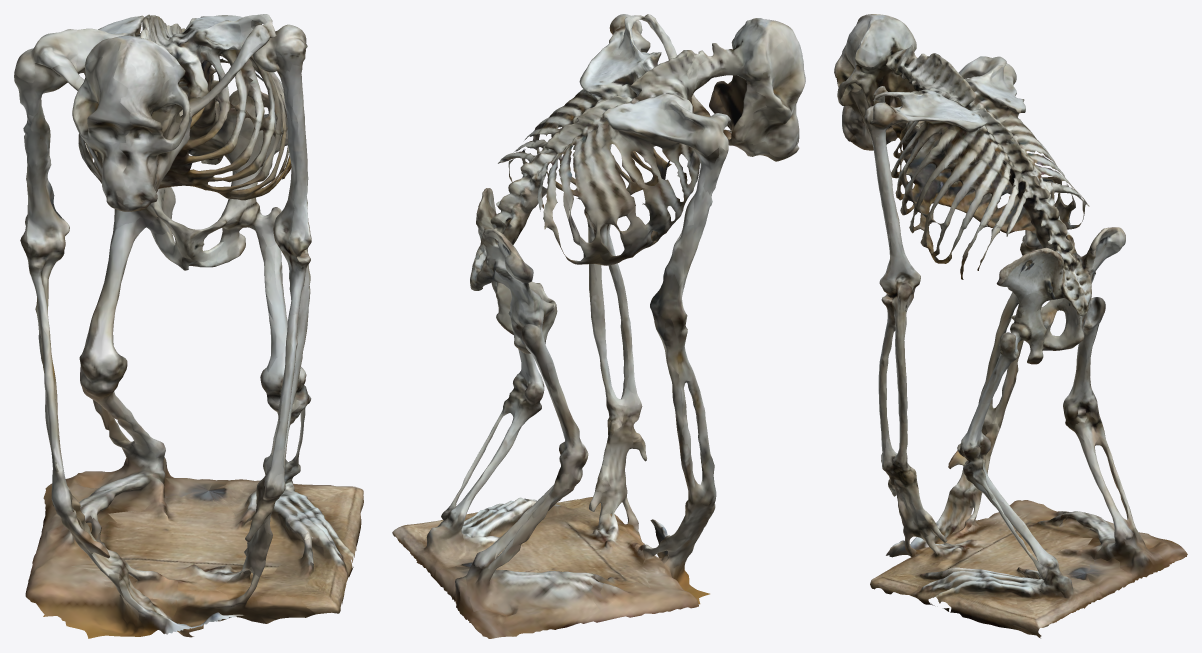
The picture shows the model from 3 angles, left to right: view 1: azimuth 30°, elevation 25°; view 2: azimuth 150°, elevation 25°; view 3: azimuth 270°, elevation 25°; orthographic projection. The views are drawn at different scales.
Visible parts, largest first — view 1: textured_output_0; view 2: textured_output_0; view 3: textured_output_0.
Boxes of the visible parts, box(x1,y1,x2,y2) form: textured_output_0: box(14, 14, 363, 638); textured_output_0: box(392, 14, 805, 638); textured_output_0: box(834, 14, 1187, 638).
Bounding box in the file's own units: 0.6349 × 1.03 × 0.6475.
Materials: 1 (1 with a texture image).
